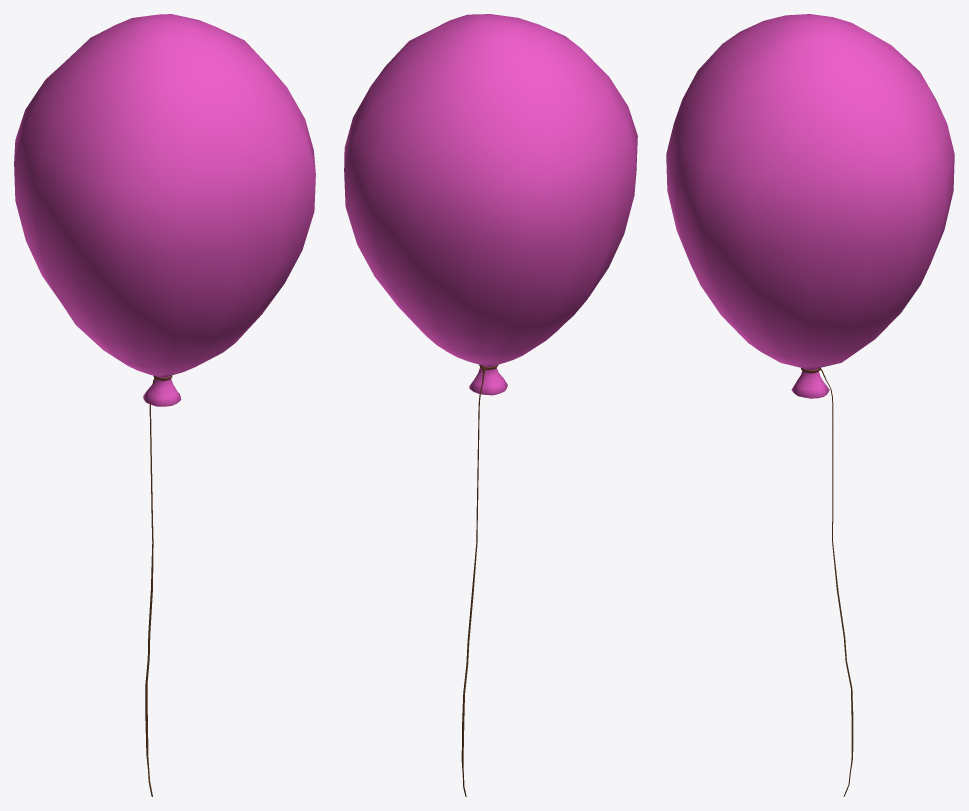
File: ballons_pink.fbx
3 views of the same model, side by side, from view 1: azimuth 30°, elevation 25°; view 2: azimuth 150°, elevation 25°; view 3: azimuth 270°, elevation 25° (orthographic). The views are drawn at different scales.
Visible parts, largest first — view 1: Cube.006; view 2: Cube.006; view 3: Cube.006.
Boxes of the visible parts, x1=… form: Cube.006: x1=14, y1=14, x2=315, y2=796; Cube.006: x1=344, y1=14, x2=637, y2=796; Cube.006: x1=666, y1=14, x2=954, y2=796.
Bounding box in the file's own units: 441 × 1297 × 440.
2 materials, 2 textured.
